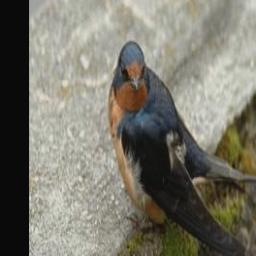Swallow: (108, 36, 256, 256)
